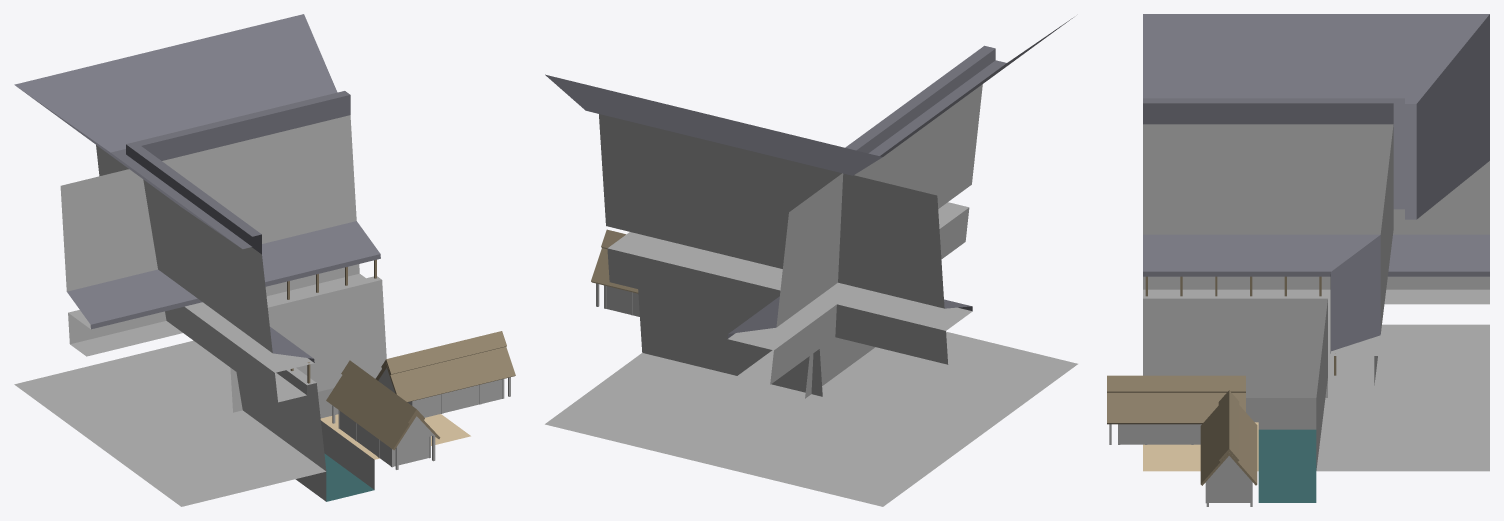
The picture shows the model from 3 angles, left to right: view 1: azimuth 30°, elevation 25°; view 2: azimuth 150°, elevation 25°; view 3: azimuth 270°, elevation 25°; orthographic projection. The views are drawn at different scales.
Parts seen in each view (by area): view 1: cc1c; view 2: cc1c; view 3: cc1c.
Part boxes in pixels (x1,y1,x2,y2): cc1c: (14, 14, 515, 506); cc1c: (545, 17, 1077, 506); cc1c: (1107, 14, 1489, 506).
Size of the model in its own units: 37.49 by 32.63 by 33.09.
